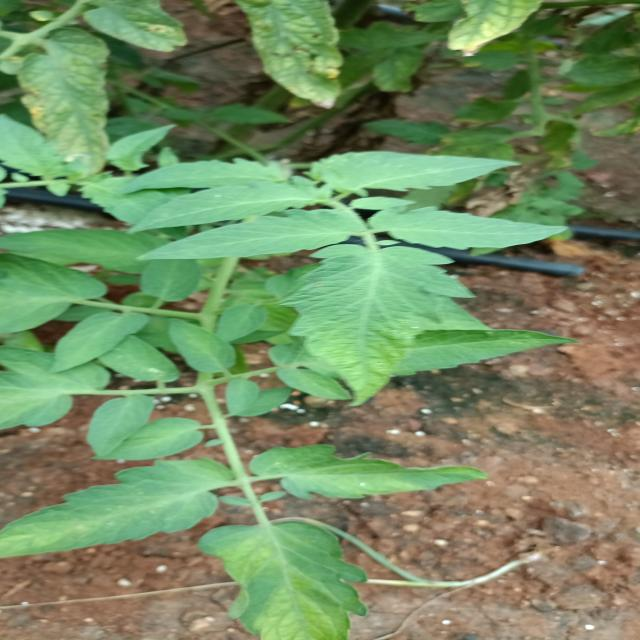Healthy Leaf: (0, 456, 235, 568), (188, 518, 396, 640), (296, 249, 460, 402), (247, 440, 485, 506), (124, 206, 363, 267), (300, 146, 555, 192), (371, 206, 594, 251), (143, 316, 253, 375)
